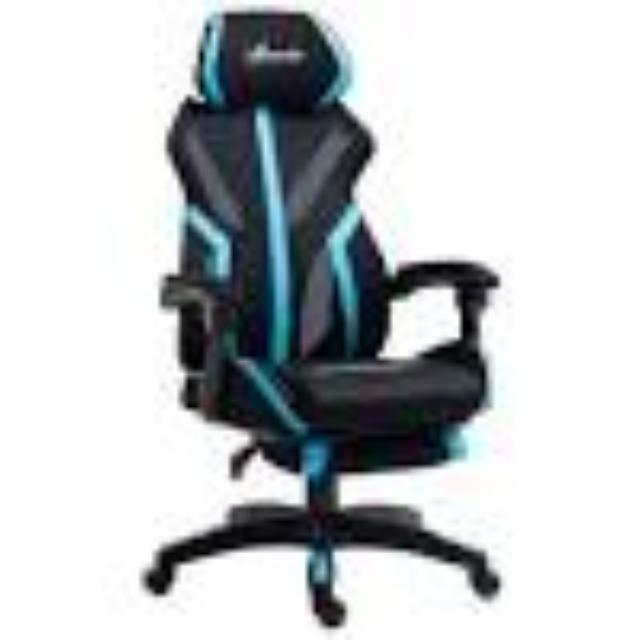obstacle: (106, 14, 522, 626)
